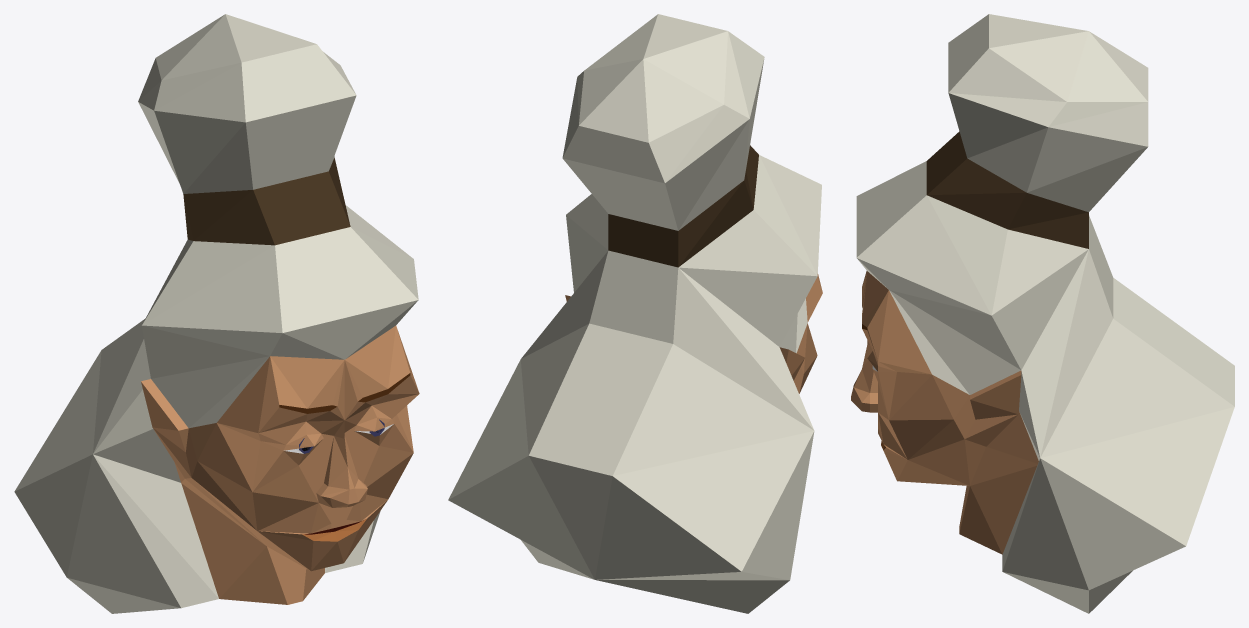
Rendered from model_14_npc_head.obj.
3 views of the same model, side by side, from view 1: azimuth 30°, elevation 25°; view 2: azimuth 150°, elevation 25°; view 3: azimuth 270°, elevation 25° (orthographic). The views are drawn at different scales.
Parts seen in each view (by area): view 1: 14; view 2: 14; view 3: 14.
Part boxes in pixels (x1,y1,x2,y2): 14: (14, 14, 419, 613); 14: (448, 14, 822, 613); 14: (851, 14, 1234, 613).
Size of the model in its own units: 126 by 217 by 142.
